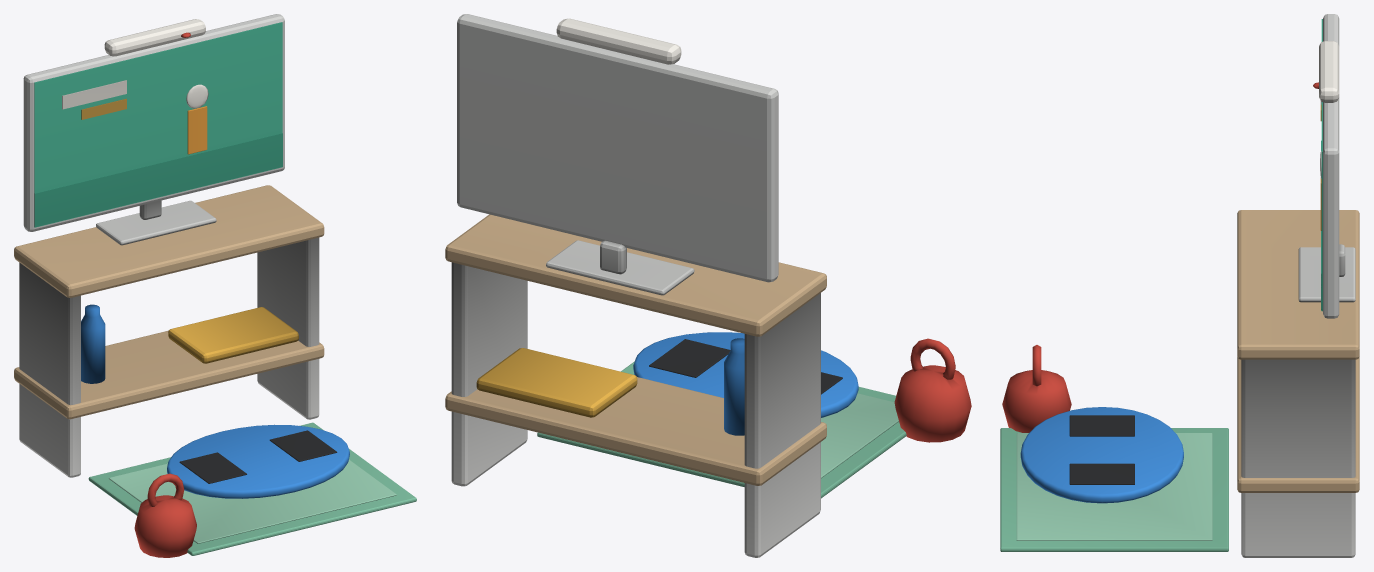
Rendered from fitnessGame.glb.
The picture shows the model from 3 angles, left to right: view 1: azimuth 30°, elevation 25°; view 2: azimuth 150°, elevation 25°; view 3: azimuth 270°, elevation 25°; orthographic projection. The views are drawn at different scales.
Visible parts, largest first — view 1: body, board; view 2: body, board; view 3: body, board.
Boxes of the visible parts, x1,y1,x2,y2 form: body: (14, 14, 416, 557); board: (167, 424, 349, 498); body: (445, 14, 971, 557); board: (633, 332, 858, 417); body: (1000, 14, 1359, 557); board: (1020, 407, 1183, 503).
Bounding box in the file's own units: 0.865 × 1.15 × 0.88.
